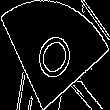O_SW: (30, 22, 80, 88)
